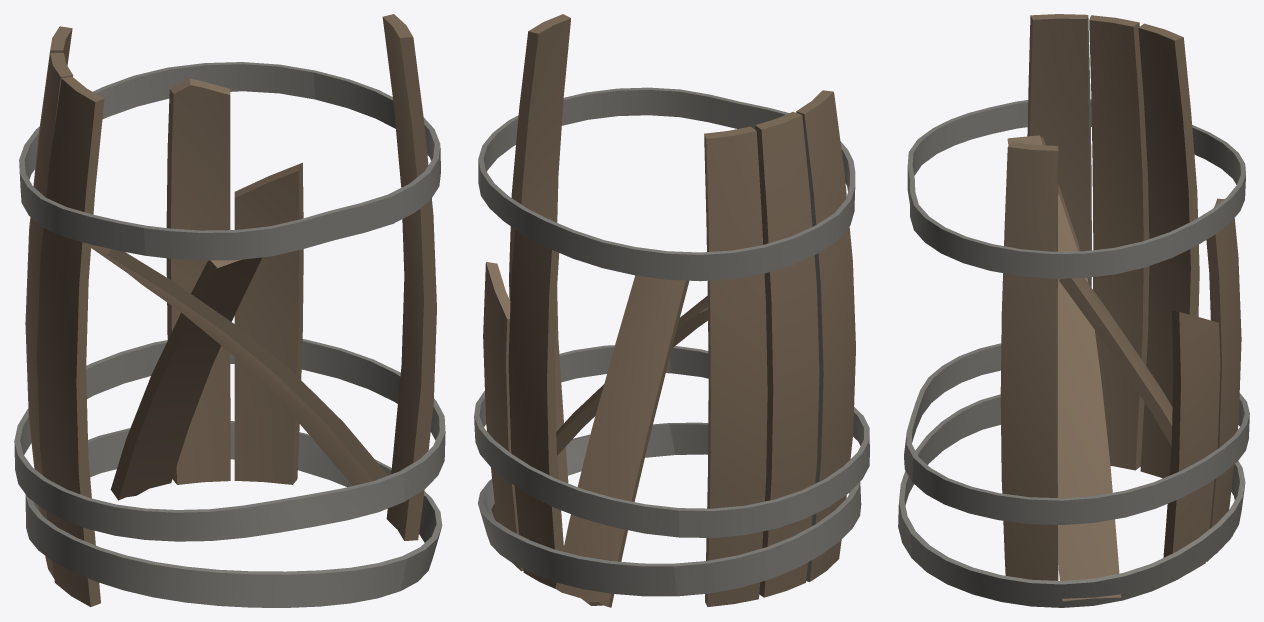
The model's file is barrel_small_broken.fbx.
3 views of the same model, side by side, from view 1: azimuth 30°, elevation 25°; view 2: azimuth 150°, elevation 25°; view 3: azimuth 270°, elevation 25° (orthographic). The views are drawn at different scales.
Parts seen in each view (by area): view 1: barrel_small_broken; view 2: barrel_small_broken; view 3: barrel_small_broken.
Part boxes in pixels (x1=…): barrel_small_broken: x1=14, y1=14, x2=445, y2=607; barrel_small_broken: x1=474, y1=14, x2=869, y2=607; barrel_small_broken: x1=898, y1=14, x2=1249, y2=607.
Size of the model in its own units: 1.1 by 1.42 by 1.
